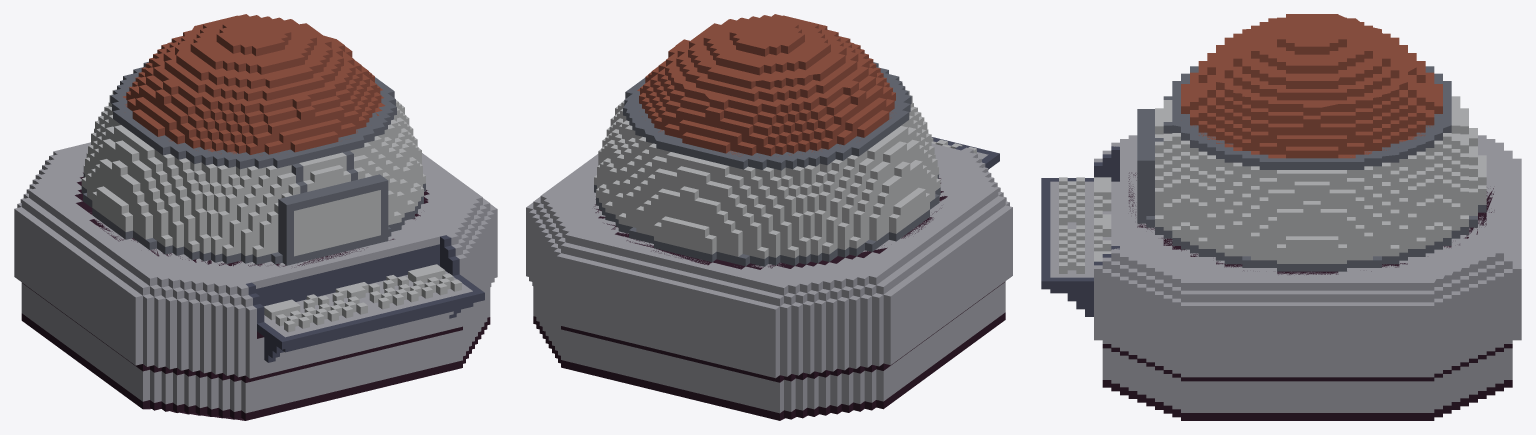
Rendered from WhateverItIs.fbx.
3 views of the same model, side by side, from view 1: azimuth 30°, elevation 25°; view 2: azimuth 150°, elevation 25°; view 3: azimuth 270°, elevation 25° (orthographic). The views are drawn at different scales.
Parts seen in each view (by area): view 1: Whateveritis.001; view 2: Whateveritis.001; view 3: Whateveritis.001.
Boxes of the visible parts, x1,y1,x2,y2 form: Whateveritis.001: (14, 14, 497, 420); Whateveritis.001: (526, 14, 1012, 420); Whateveritis.001: (1041, 14, 1521, 420).
Bounding box in the file's own units: 312 × 237 × 344.
